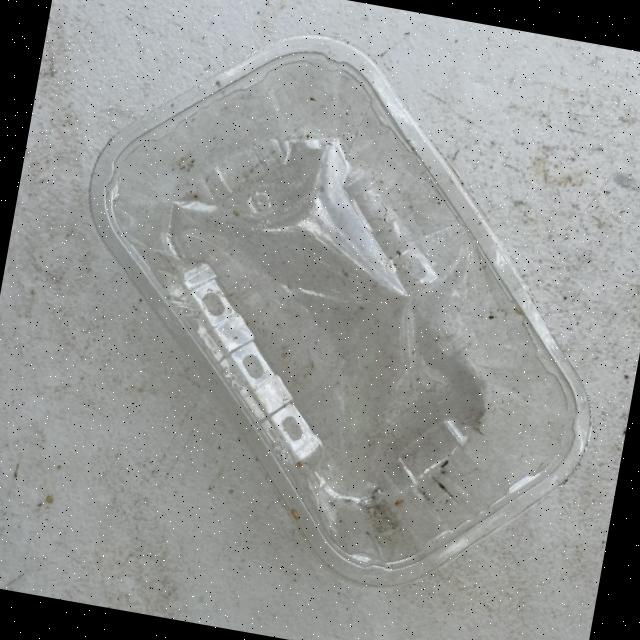plastic: (27, 0, 640, 618)
